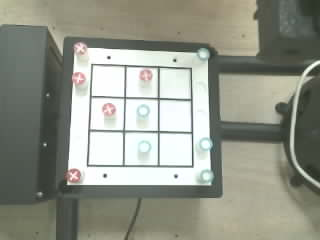blue circle: (199, 137, 213, 151), (200, 169, 213, 182), (197, 48, 210, 60), (137, 104, 149, 117), (138, 140, 151, 152)
board: (66, 42, 215, 185)
cells: (89, 132, 122, 164), (125, 133, 157, 165), (90, 98, 123, 129), (125, 99, 157, 130), (92, 65, 124, 96), (160, 134, 191, 165), (160, 100, 191, 131), (126, 67, 157, 97), (160, 68, 190, 98)
grid: (87, 64, 193, 167)
red cross: (65, 168, 80, 182), (102, 103, 115, 116), (73, 42, 87, 54), (72, 72, 85, 84), (140, 69, 152, 81)
